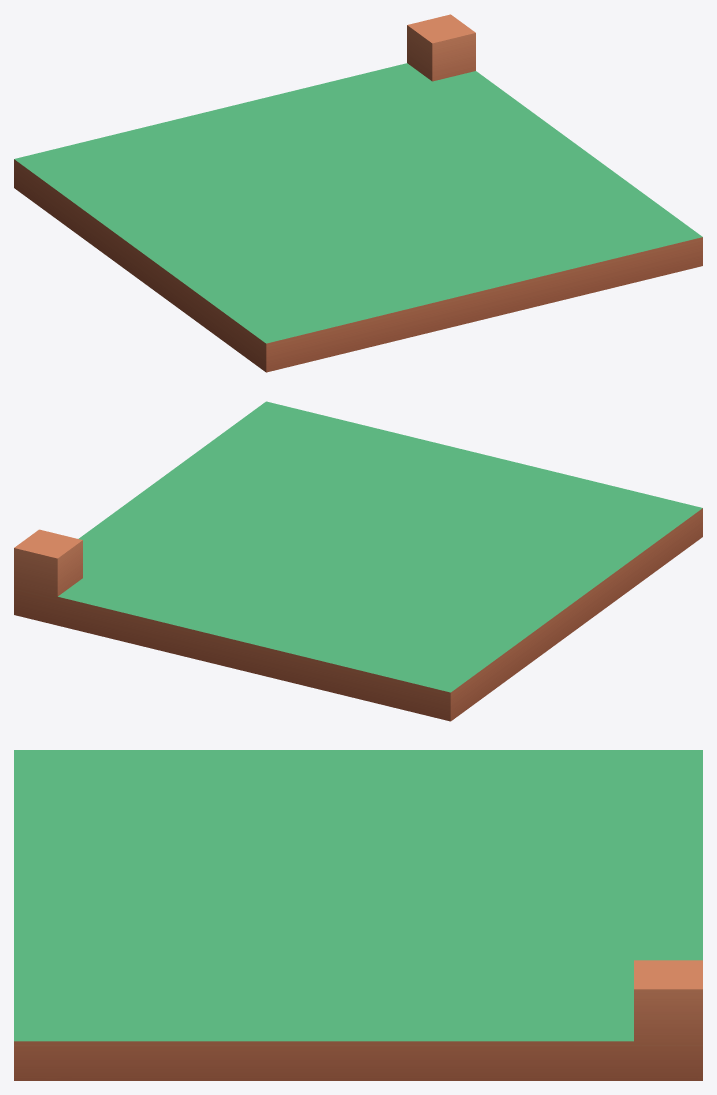
The model's file is inner-corner.glb.
3 renders of one model, top to bottom at view 1: azimuth 30°, elevation 25°; view 2: azimuth 150°, elevation 25°; view 3: azimuth 270°, elevation 25°, orthographic. The views are drawn at different scales.
Parts seen in each view (by area): view 1: inner-corner; view 2: inner-corner; view 3: inner-corner.
Boxes of the visible parts, x1,y1,x2,y2 form: inner-corner: (14,14,702,372); inner-corner: (14,401,702,721); inner-corner: (14,750,702,1080).
Size of the model in its own units: 0.9999 by 0.1467 by 0.9999.
1 material, 1 textured.
